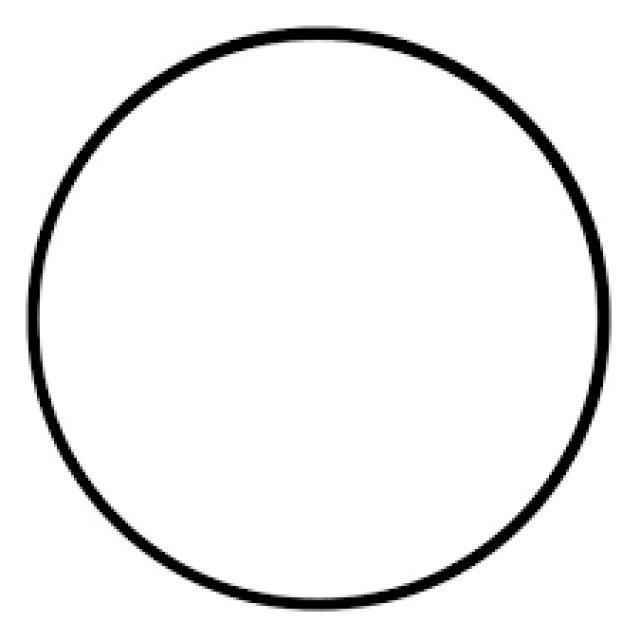Circle: (25, 24, 612, 609)
